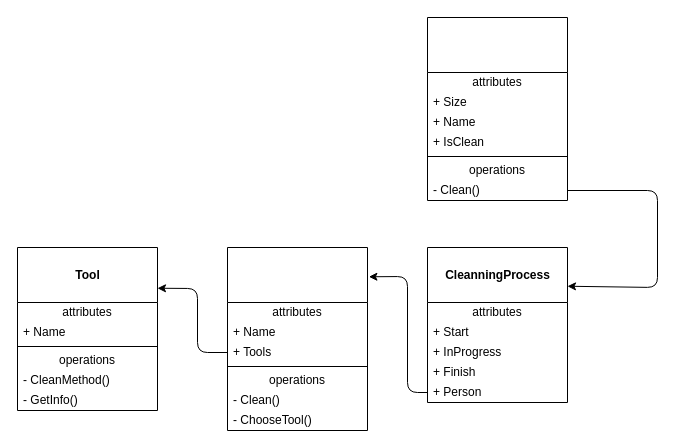
Image size: 683x448. Some labels were removed from this diagram. The shapes that lost their labels are listed below. From the top down, each one's box as (x1, y1, x2, y2) in pixels, then its label:
(426, 16, 568, 200): Room
(226, 246, 368, 430): Person
